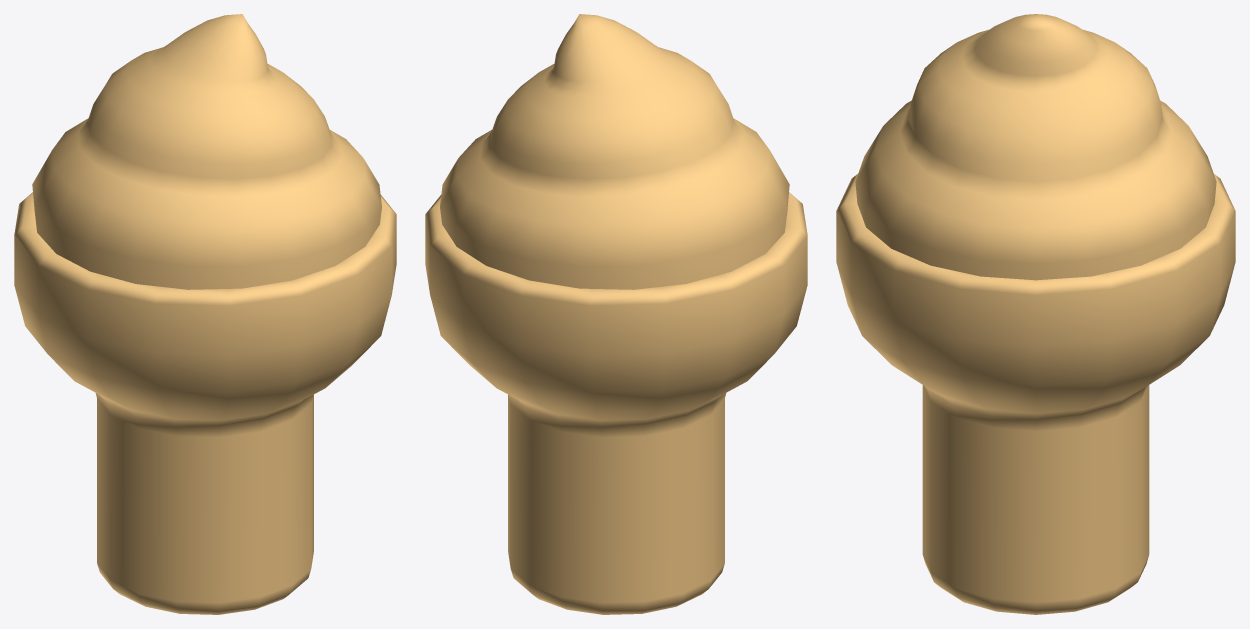
The model's file is pppp.glb.
3 renders of one model, left to right at view 1: azimuth 30°, elevation 25°; view 2: azimuth 150°, elevation 25°; view 3: azimuth 270°, elevation 25°, orthographic. The views are drawn at different scales.
Bounding box in the file's own units: 3.52 × 5.63 × 3.52.
